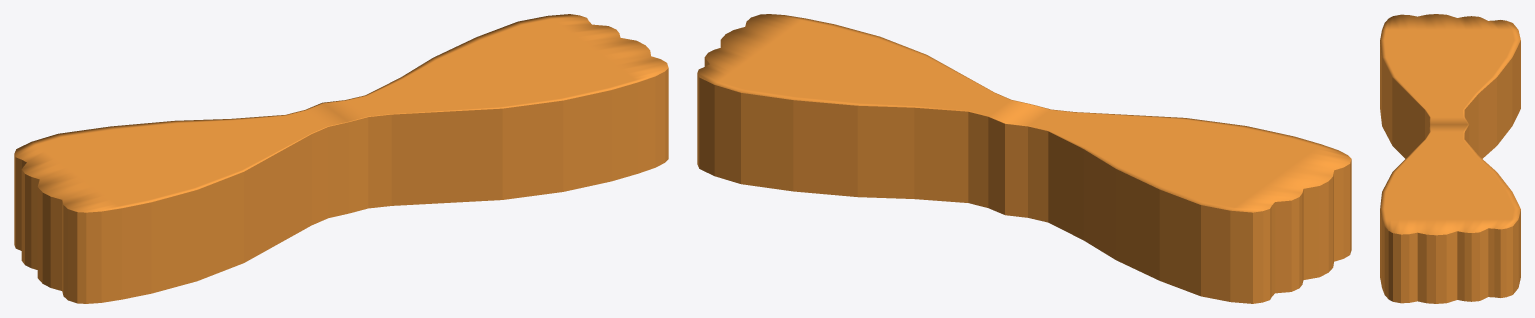
The model's file is urinaryBladder.glb.
The picture shows the model from 3 angles, left to right: view 1: azimuth 30°, elevation 25°; view 2: azimuth 150°, elevation 25°; view 3: azimuth 270°, elevation 25°; orthographic projection. The views are drawn at different scales.
Visible parts, largest first — view 1: urinaryBladder; view 2: urinaryBladder; view 3: urinaryBladder.
Boxes of the visible parts, box(x1,y1,x2,y2) form: urinaryBladder: box(14, 14, 668, 303); urinaryBladder: box(697, 14, 1351, 303); urinaryBladder: box(1380, 14, 1520, 303).
Size of the model in its own units: 6.94 by 1.01 by 1.87.
